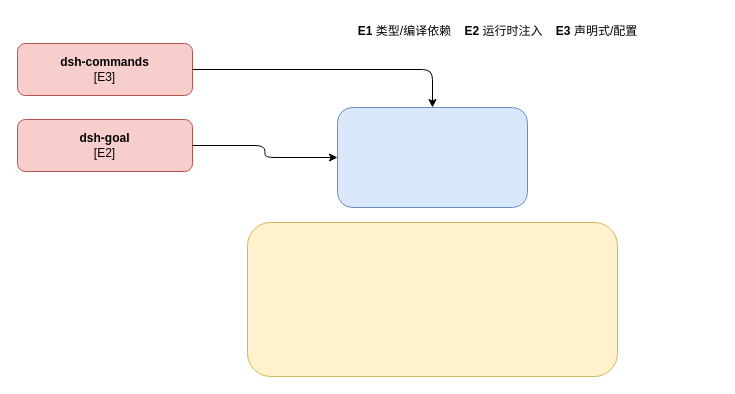
The diagram is 735 pixels wide and 394 high, and some of its shapes have lost their labels. Each missing label, with the centre of its shape:
"dsh-command-goal G10 命令交互" goes at (432,157).
"provides · /goal 命令 · show/create/edit/pause/resume/clear 语法 · GoalView 多行渲染" goes at (432,299).
